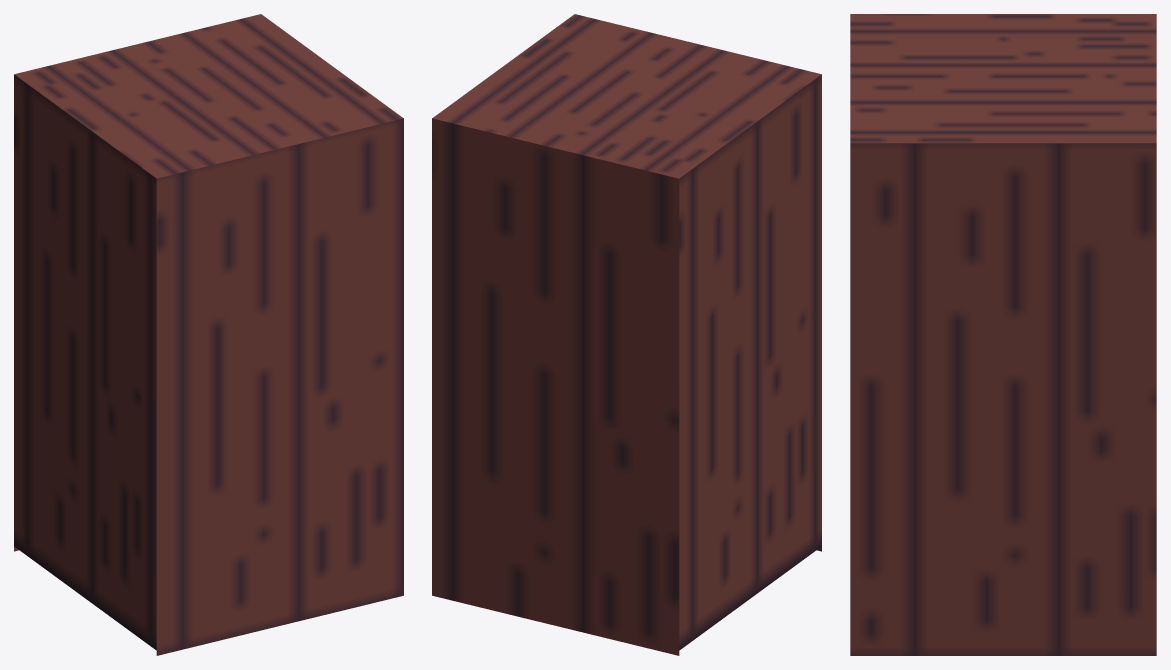
The model's file is BlocoDeMadeira2.fbx.
3 views of the same model, side by side, from view 1: azimuth 30°, elevation 25°; view 2: azimuth 150°, elevation 25°; view 3: azimuth 270°, elevation 25° (orthographic). The views are drawn at different scales.
Parts seen in each view (by area): view 1: BlocoDeMadeira; view 2: BlocoDeMadeira; view 3: BlocoDeMadeira.
Boxes of the visible parts, x1,y1,x2,y2 form: BlocoDeMadeira: (14, 14, 403, 655); BlocoDeMadeira: (432, 14, 821, 655); BlocoDeMadeira: (850, 14, 1156, 655).
Size of the model in its own units: 192 by 192 by 355.
